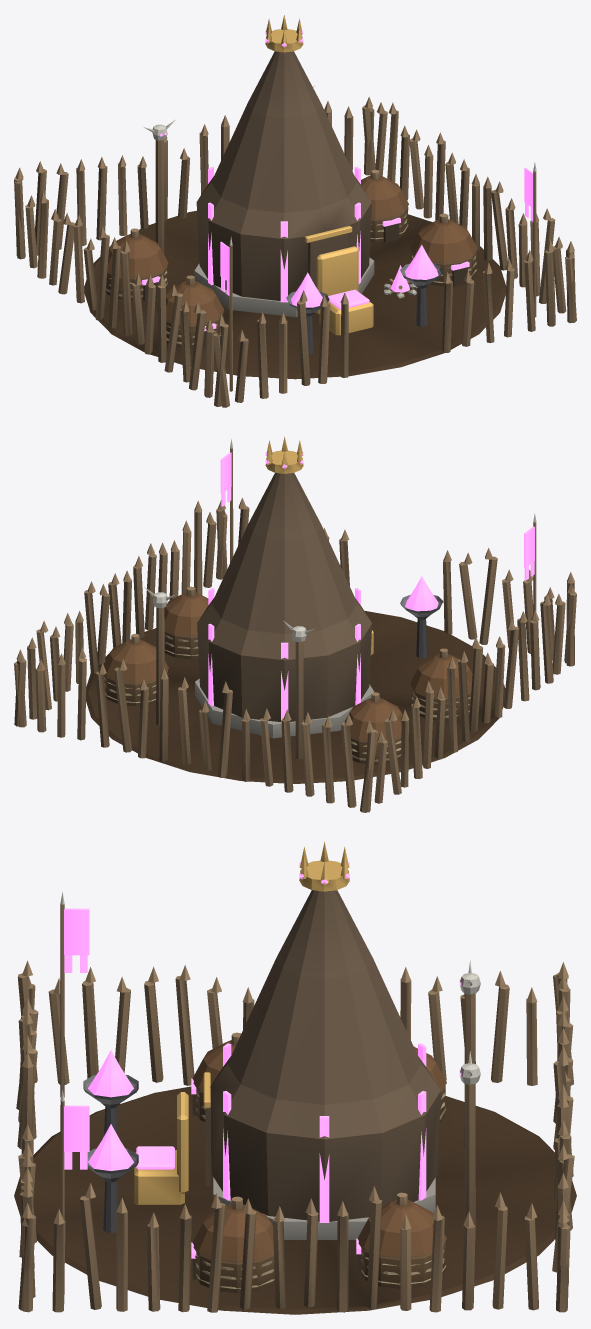
File: enemy_lair.glb
3 views of the same model, one above another, from view 1: azimuth 30°, elevation 25°; view 2: azimuth 150°, elevation 25°; view 3: azimuth 270°, elevation 25° (orthographic). The views are drawn at different scales.
Parts seen in each view (by area): view 1: enemy_lair; view 2: enemy_lair; view 3: enemy_lair.
Part boxes in pixels (<box>): enemy_lair: <box>14,15,576,407</box>; enemy_lair: <box>14,436,576,812</box>; enemy_lair: <box>14,842,576,1314</box>.
Size of the model in its own units: 2.9 by 1.97 by 2.9.
